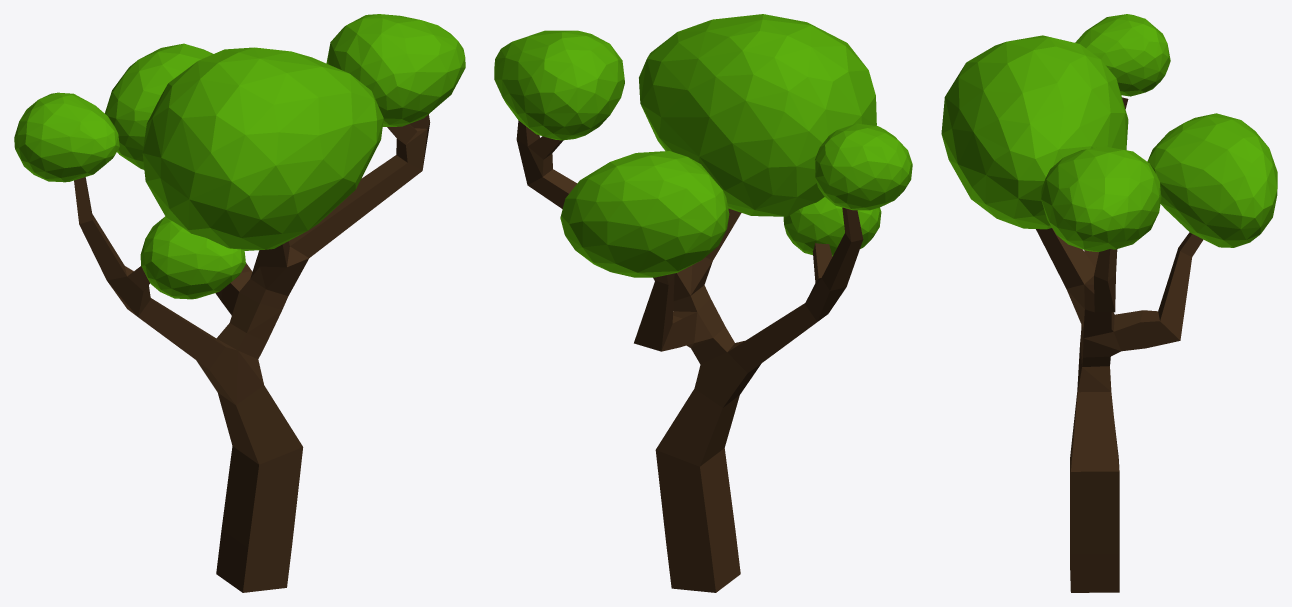
The model's file is Drevo03.glb.
The picture shows the model from 3 angles, left to right: view 1: azimuth 30°, elevation 25°; view 2: azimuth 150°, elevation 25°; view 3: azimuth 270°, elevation 25°; orthographic projection. The views are drawn at different scales.
Parts seen in each view (by area): view 1: Blob tree.001; view 2: Blob tree.001; view 3: Blob tree.001.
Boxes of the visible parts, x1,y1,x2,y2 form: Blob tree.001: (14,14,465,592); Blob tree.001: (494,14,912,592); Blob tree.001: (941,14,1277,592).
Size of the model in its own units: 0.625 by 0.773 by 0.4518.
